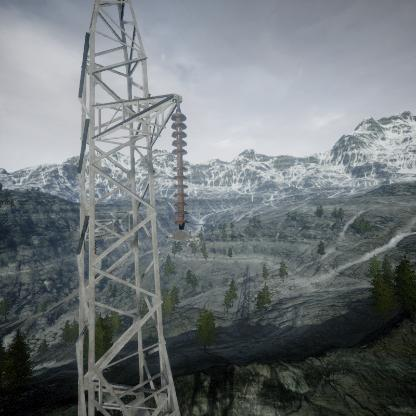insulator: (170, 109, 189, 230)
